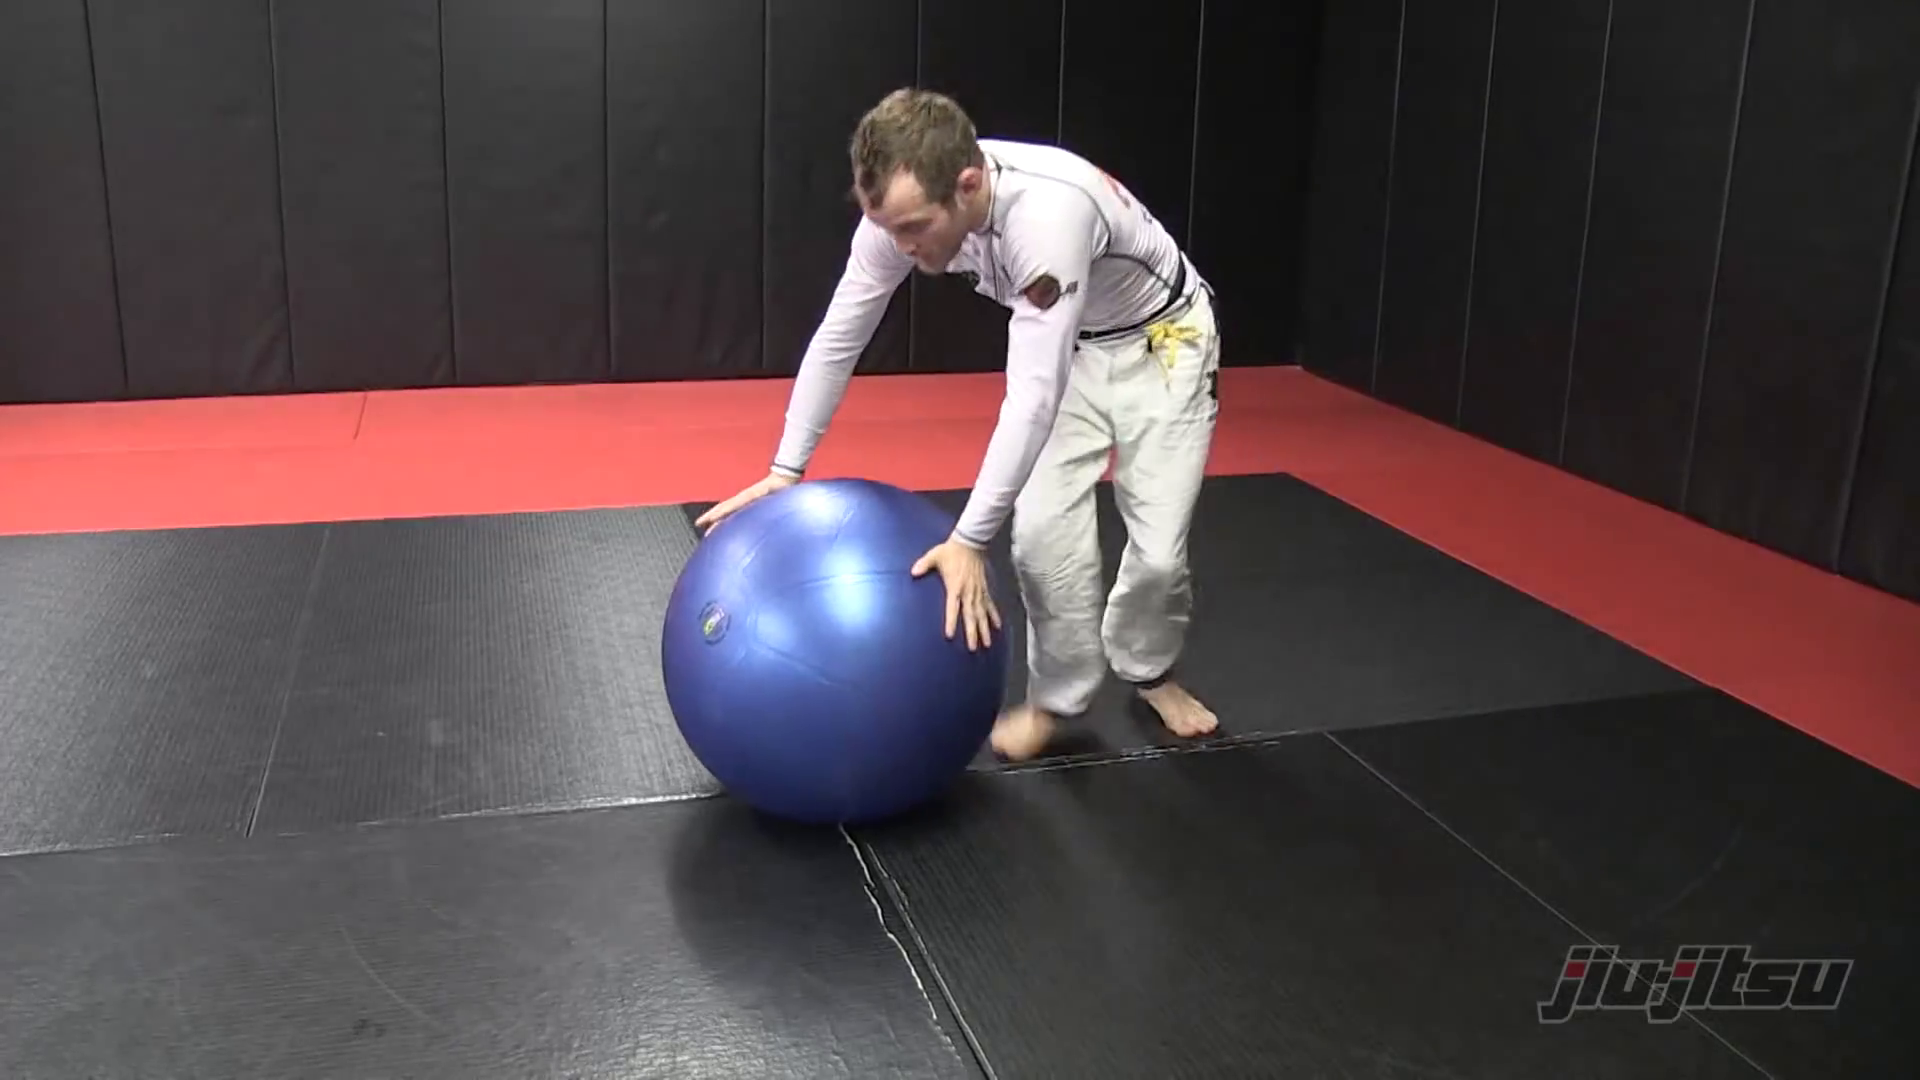yogaball: (649, 469, 1025, 849)
